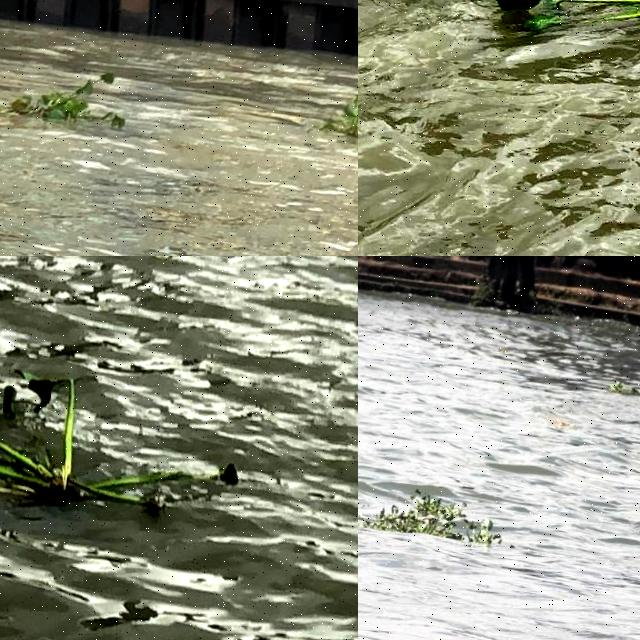water-hyacinth: (1, 342, 253, 530), (359, 482, 565, 555), (1, 61, 130, 136)
